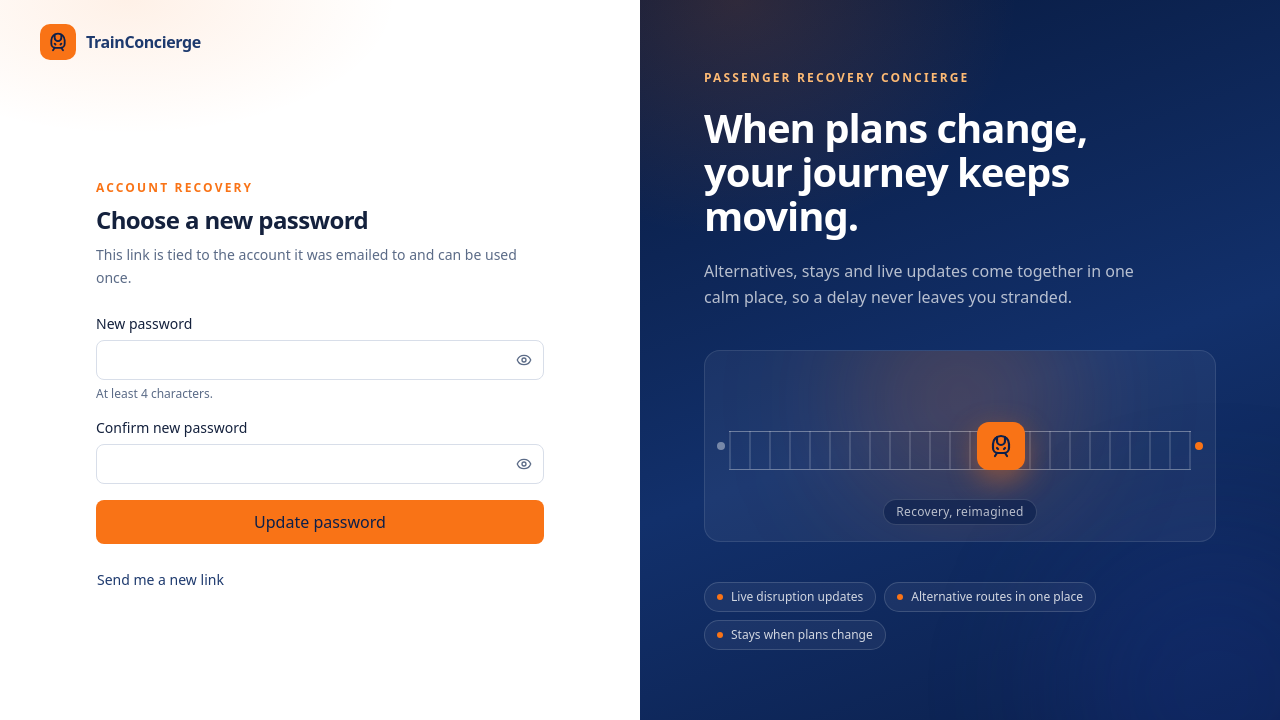
Test: reset password page › sends the token from the link with the new password
This screenshot has width=1280, height=720.
Later steps or results of the test are not shown.
Type "newpass" into the password field labelled "New password" at [320, 360], box [96, 340, 544, 380]
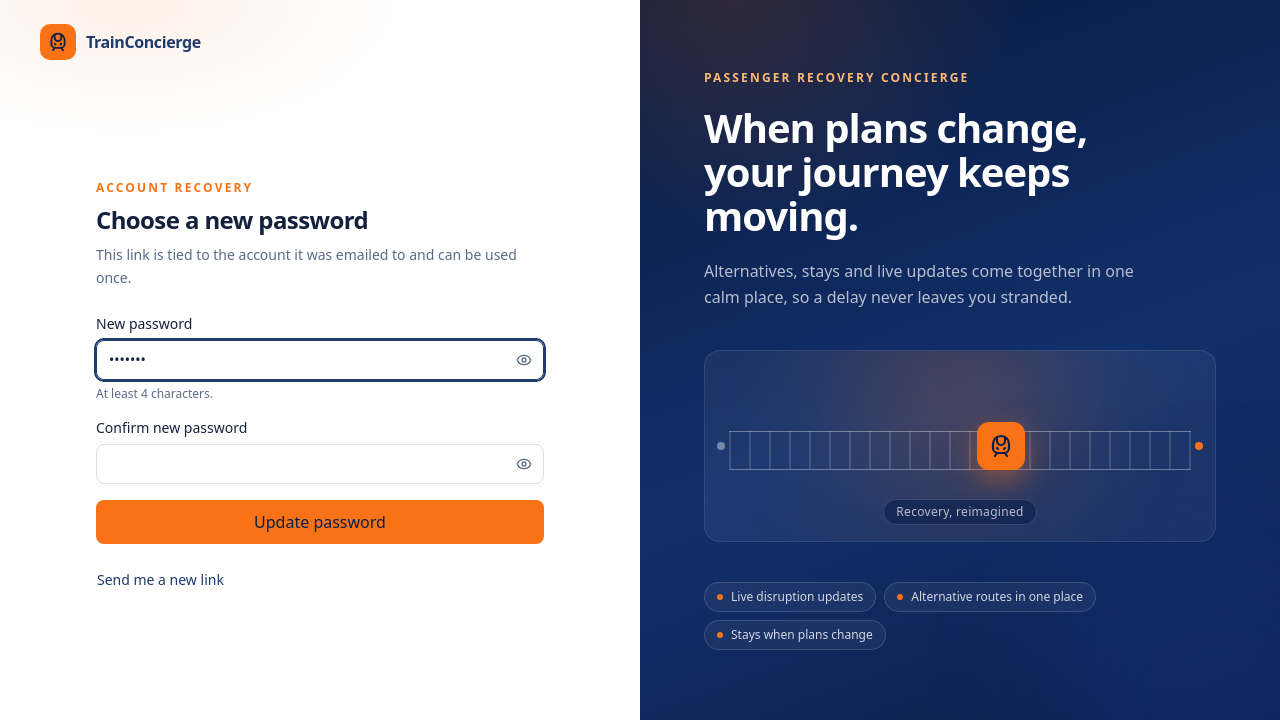
Type "newpass" into the password field labelled "Confirm new password" at [320, 464], box [96, 444, 544, 484]
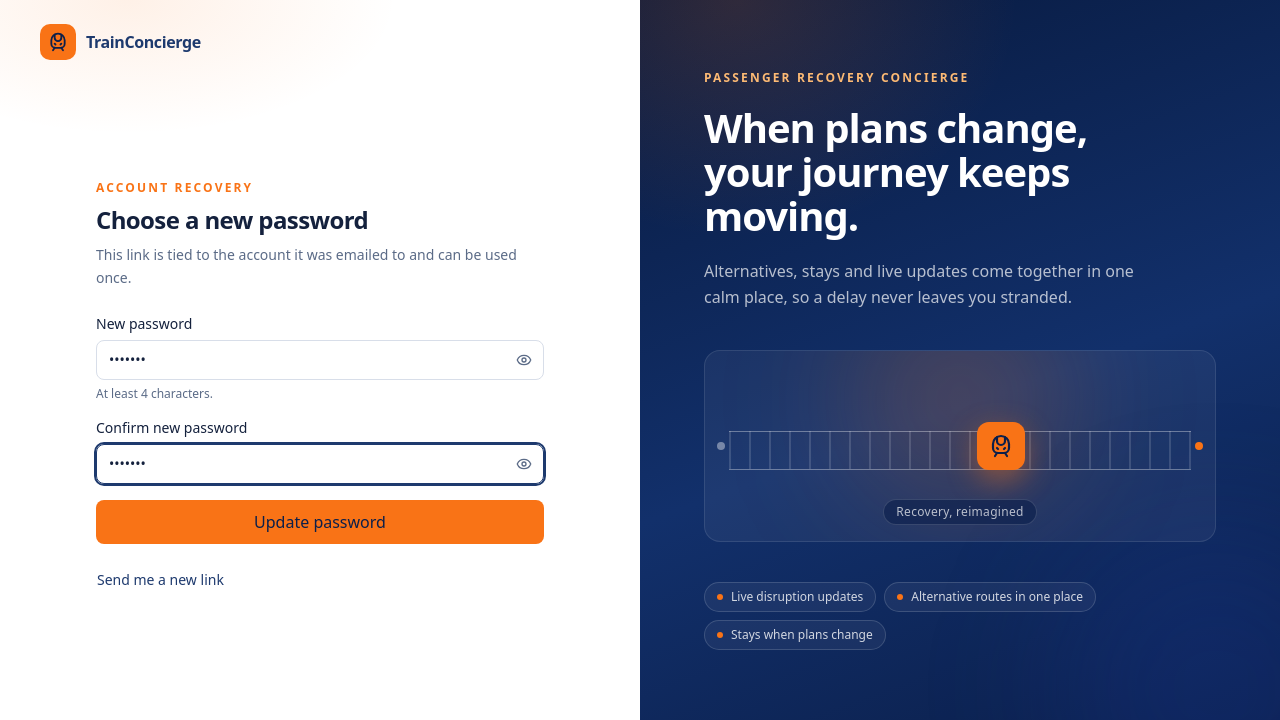
Click the button "Update password" at [320, 522], box [96, 500, 544, 544]
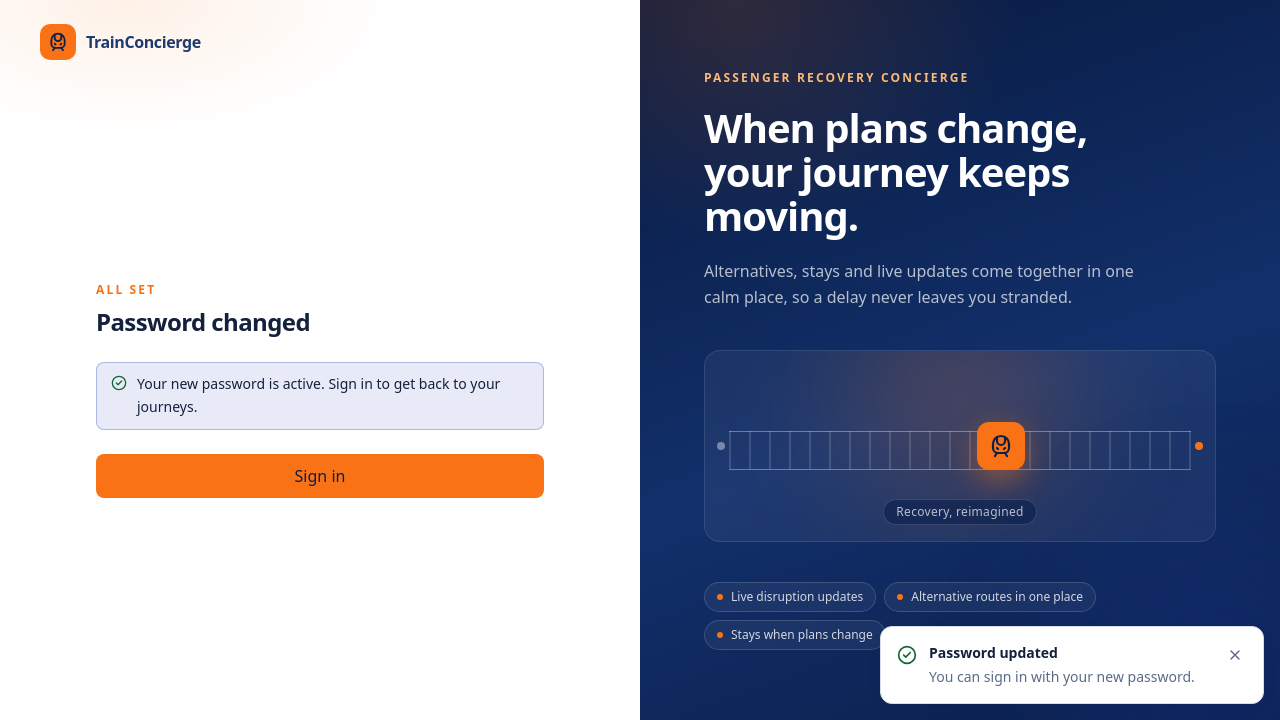
Check: the message "Your new password is active. Sign in to get back to your journeys." is shown, box [96, 362, 544, 430]
